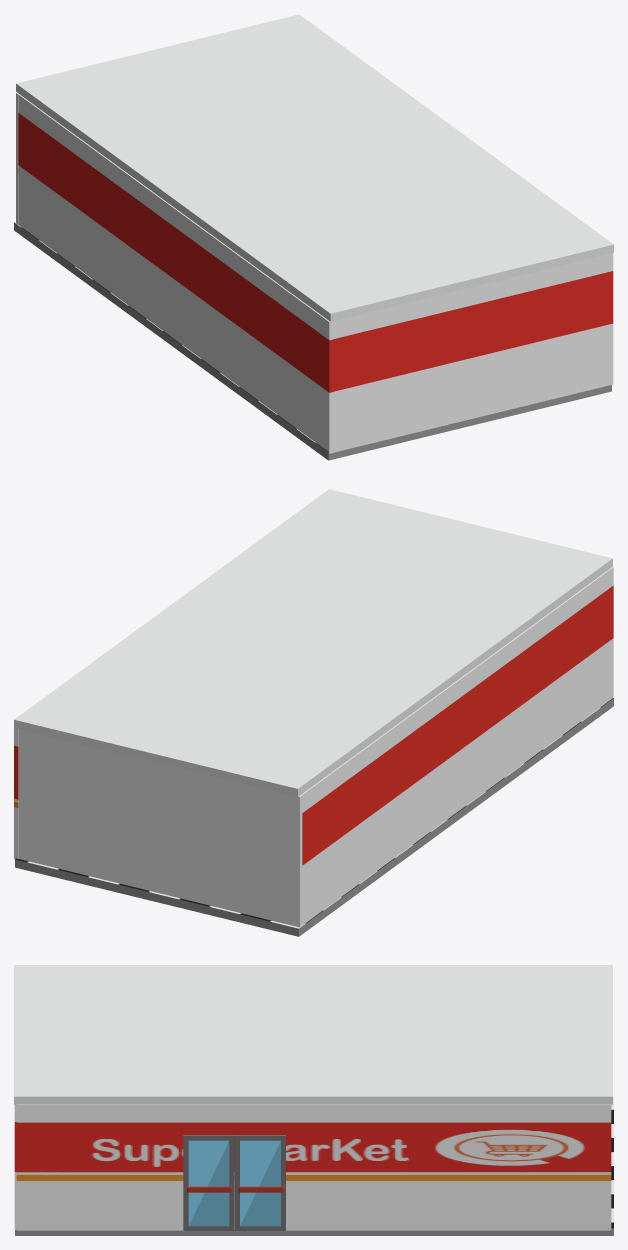
Rendered from Map-Office.fbx.
The picture shows the model from 3 angles, top to bottom: view 1: azimuth 30°, elevation 25°; view 2: azimuth 150°, elevation 25°; view 3: azimuth 270°, elevation 25°; orthographic projection. The views are drawn at different scales.
Parts seen in each view (by area): view 1: polySurface4522, tuong3, tuong4, polySurface3763; view 2: polySurface4522, tuong3, tuong1, polySurface3763, tuong; view 3: polySurface4522, tuong, cua_chinh, polySurface3763, tuong4.
Boxes of the visible parts, x1,y1,x2,y2 form: polySurface4522: (16,14,613,321); tuong3: (17,93,333,453); tuong4: (333,253,613,452); polySurface3763: (14,222,611,460); polySurface4522: (14,489,612,796); tuong3: (300,567,613,925); tuong1: (18,729,302,927); polySurface3763: (15,698,613,936); tuong: (14,728,18,859); polySurface4522: (14,965,612,1104); tuong: (16,1104,611,1230); cua_chinh: (183,1135,285,1230); polySurface3763: (15,1096,613,1235); tuong4: (14,1104,16,1229).
Size of the model in its own units: 514 by 245 by 950.
